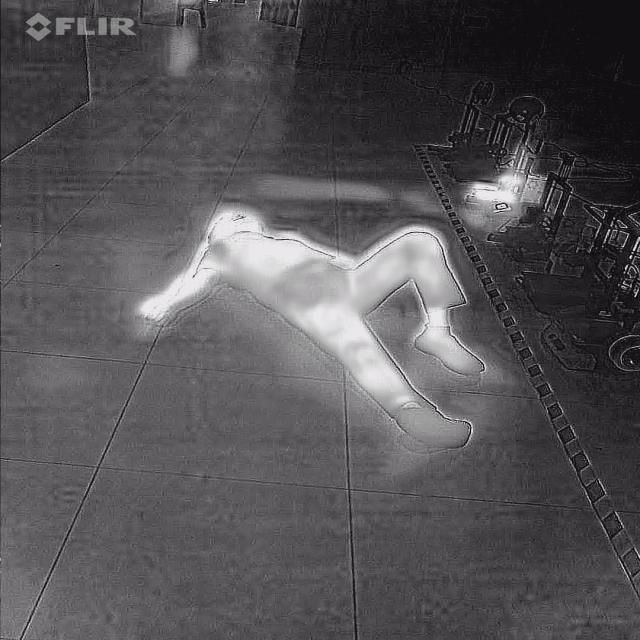Victim: (129, 197, 489, 450)
